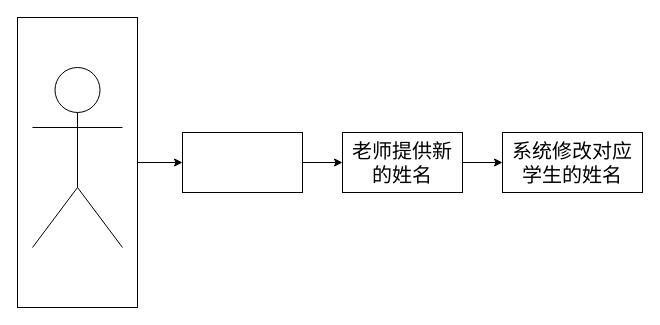
Image size: 660x325. Some labels were removed from this diagram. The centre of each missing label's shape, as x and y in pixels:
"Actor" belongs at point 77,157.
"使用学号查找到学生" belongs at point 242,162.
